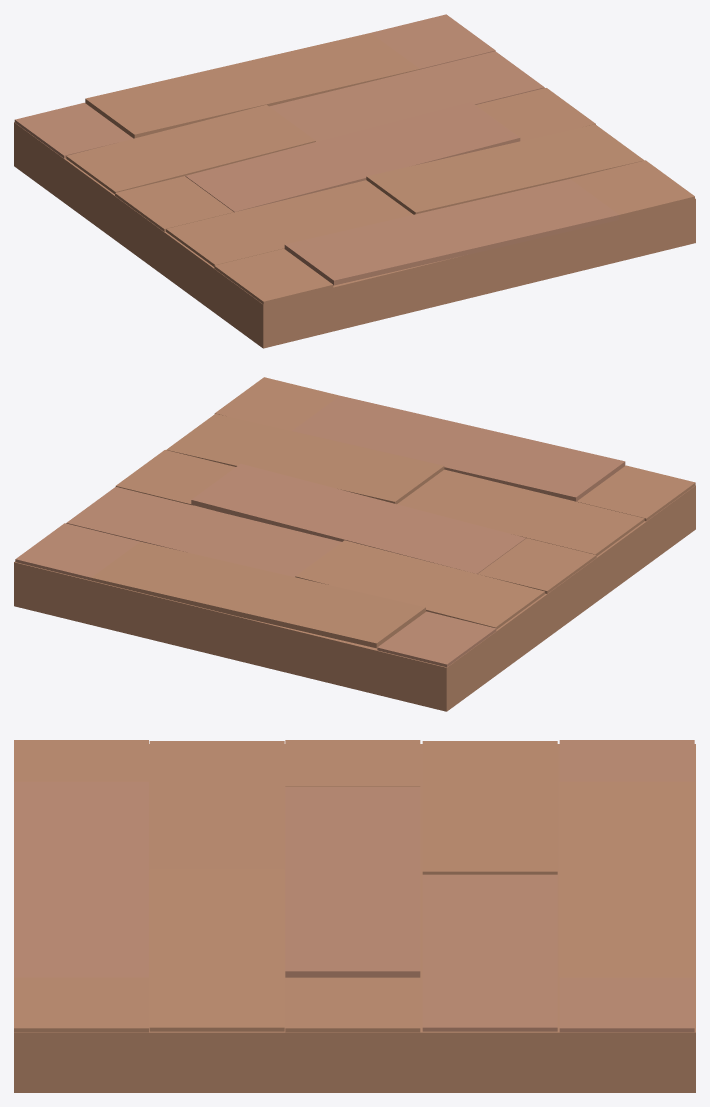
File: Sol_01 1.fbx
3 renders of one model, top to bottom at view 1: azimuth 30°, elevation 25°; view 2: azimuth 150°, elevation 25°; view 3: azimuth 270°, elevation 25°, orthographic. The views are drawn at different scales.
Visible parts, largest first — view 1: Cube.009; view 2: Cube.009; view 3: Cube.009.
Part boxes in pixels (left/top/right/bottom): Cube.009: left=14, top=14, right=695, bottom=348; Cube.009: left=14, top=377, right=695, bottom=711; Cube.009: left=14, top=740, right=695, bottom=1092.
Size of the model in its own units: 200 by 22.73 by 200.
